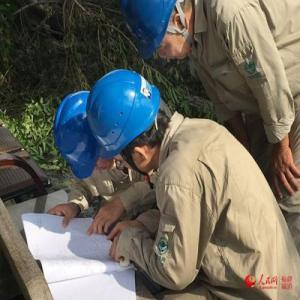blue: (88, 67, 165, 177), (55, 90, 116, 180), (122, 3, 194, 63)
